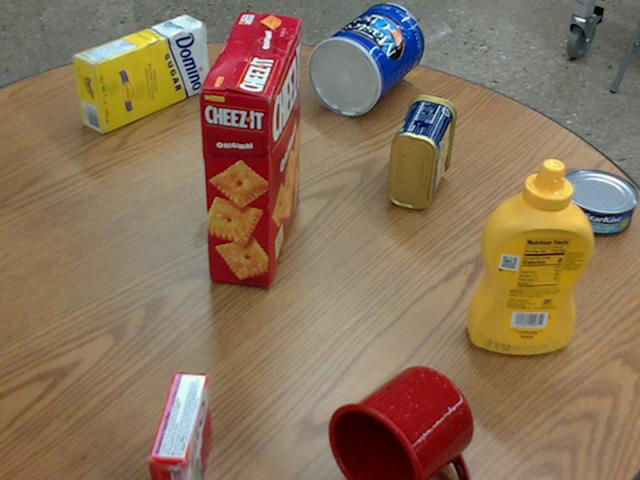cracker_box: (200, 12, 303, 286)
gelatin_box: (141, 373, 207, 479)
master_chef_can: (306, 2, 422, 114)
mug: (325, 366, 471, 479)
mustard_bottle: (466, 158, 591, 353)
potted_meat_can: (387, 94, 455, 208)
sugar_box: (72, 13, 208, 131)
tuna_fish_can: (554, 168, 635, 235)
